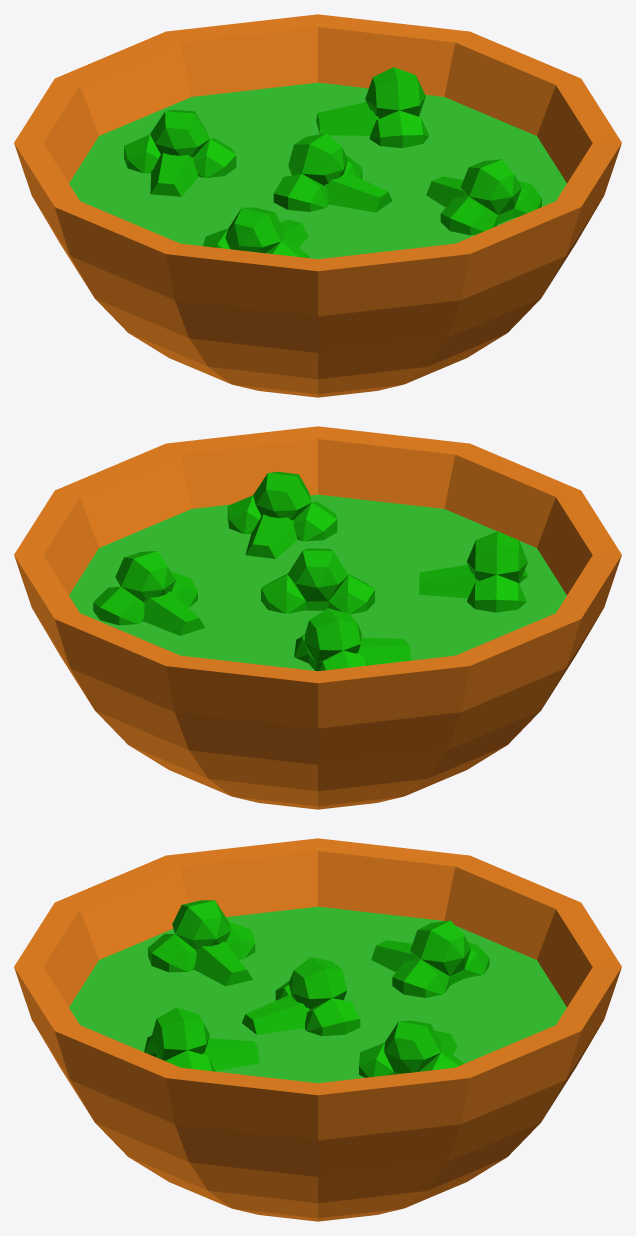
File: Soap_Plate_05.fbx
The picture shows the model from 3 angles, top to bottom: view 1: azimuth 30°, elevation 25°; view 2: azimuth 150°, elevation 25°; view 3: azimuth 270°, elevation 25°; orthographic projection.
Visible parts, largest first — view 1: Soap_Plate_05_LOD0; view 2: Soap_Plate_05_LOD0; view 3: Soap_Plate_05_LOD0.
Part boxes in pixels (x1,y1,x2,y2): Soap_Plate_05_LOD0: (14, 14, 621, 397); Soap_Plate_05_LOD0: (14, 426, 621, 809); Soap_Plate_05_LOD0: (14, 838, 621, 1221).
Size of what is drawn, in the model's own units: 0.2799 by 0.1169 by 0.2799.
